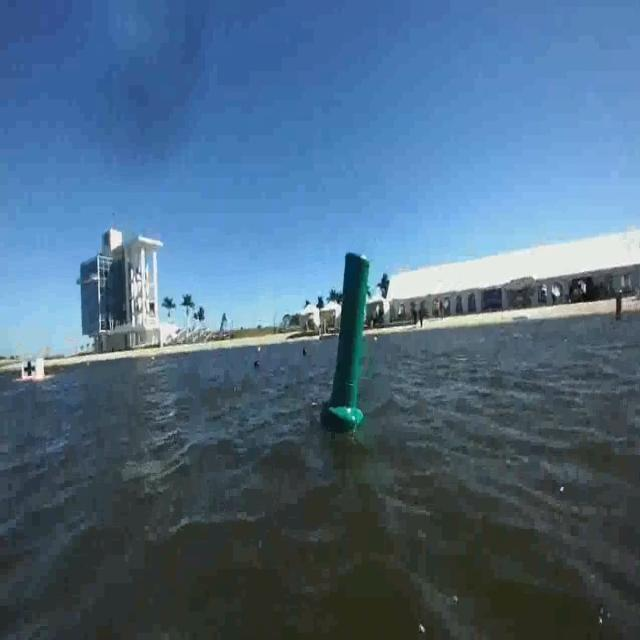green-column-buoy: (326, 253, 371, 431)
